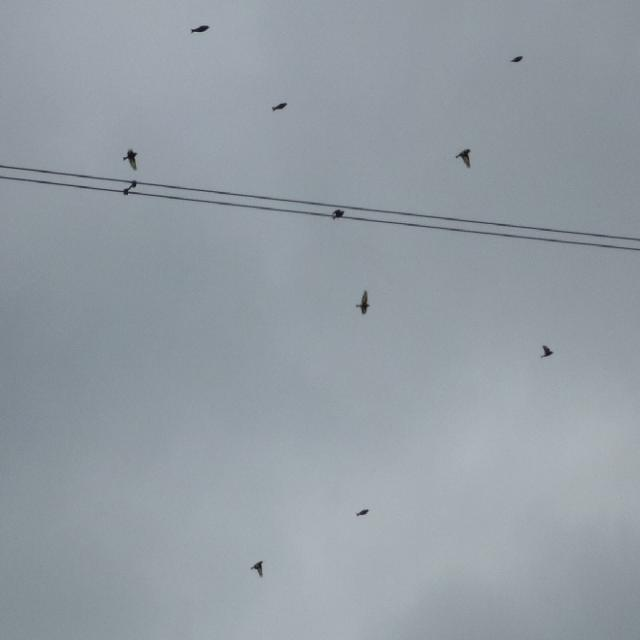bird: (122, 150, 140, 175), (326, 206, 346, 228), (358, 289, 372, 319), (454, 148, 472, 171), (250, 561, 267, 581), (270, 99, 289, 114), (190, 22, 210, 36), (540, 344, 556, 360), (510, 53, 524, 67), (356, 508, 371, 520)
